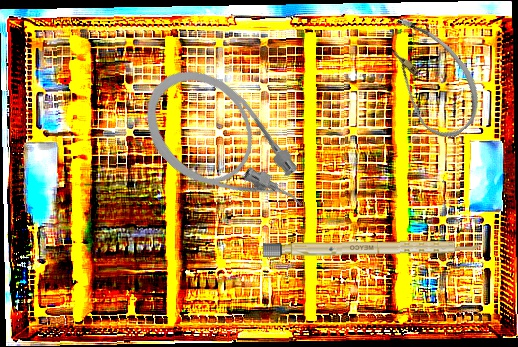Cannula: (124, 49, 326, 251), (361, 6, 497, 148)
Scalpel Handle: (262, 239, 480, 257)
